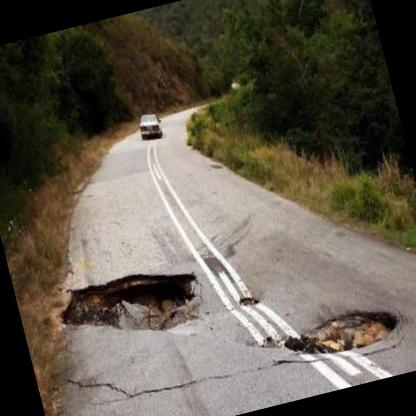pothole: (50, 252, 210, 356), (278, 295, 408, 369), (235, 289, 264, 310)
